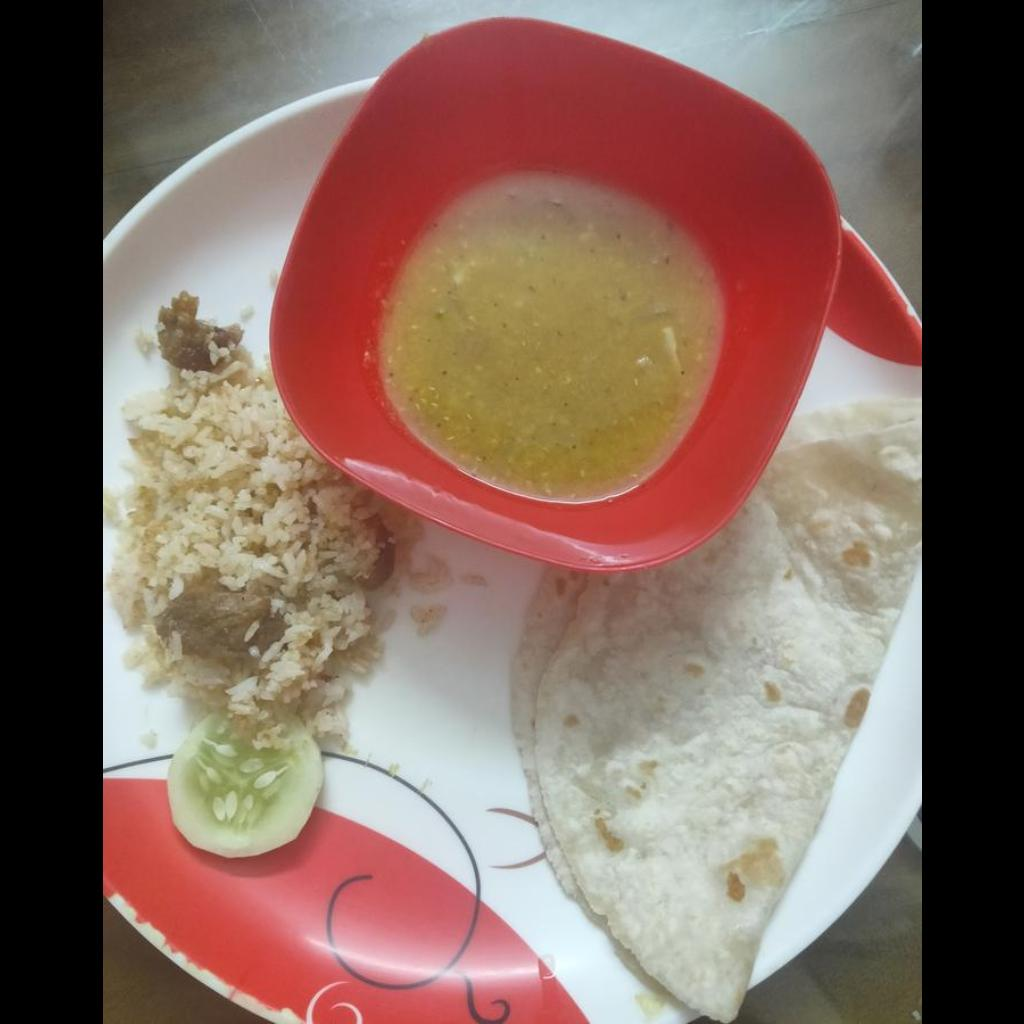biriyani: (114, 294, 392, 757)
cucumber: (167, 716, 322, 858)
daal: (379, 175, 730, 504)
ruti: (500, 401, 920, 1017)
